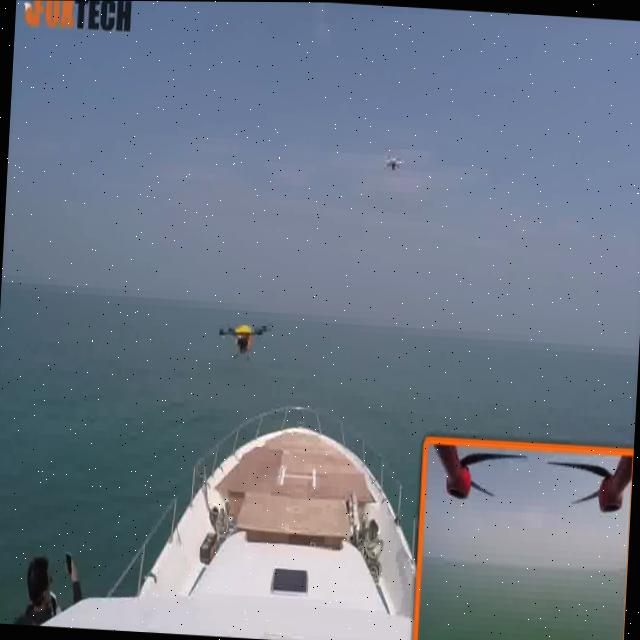drone: (212, 313, 278, 369), (370, 150, 410, 174)
